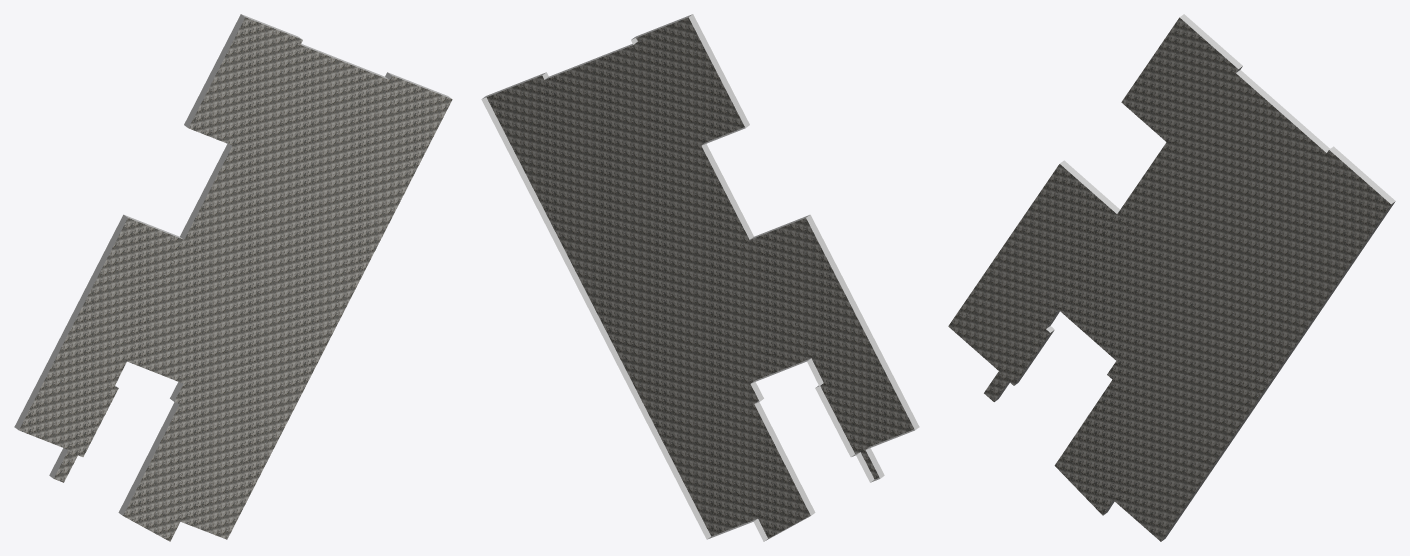
Rendered from geospecific_145.obj.
3 renders of one model, left to right at view 1: azimuth 30°, elevation 25°; view 2: azimuth 150°, elevation 25°; view 3: azimuth 330°, elevation 25°, orthographic. The views are drawn at different scales.
Visible parts, largest first — view 1: Building; view 2: Building; view 3: Building.
Boxes of the visible parts, x1,y1,x2,y2 form: Building: (14, 14, 452, 541); Building: (481, 14, 919, 541); Building: (948, 14, 1395, 541).
Size of the model in its own units: 166 by 189 by 3.
